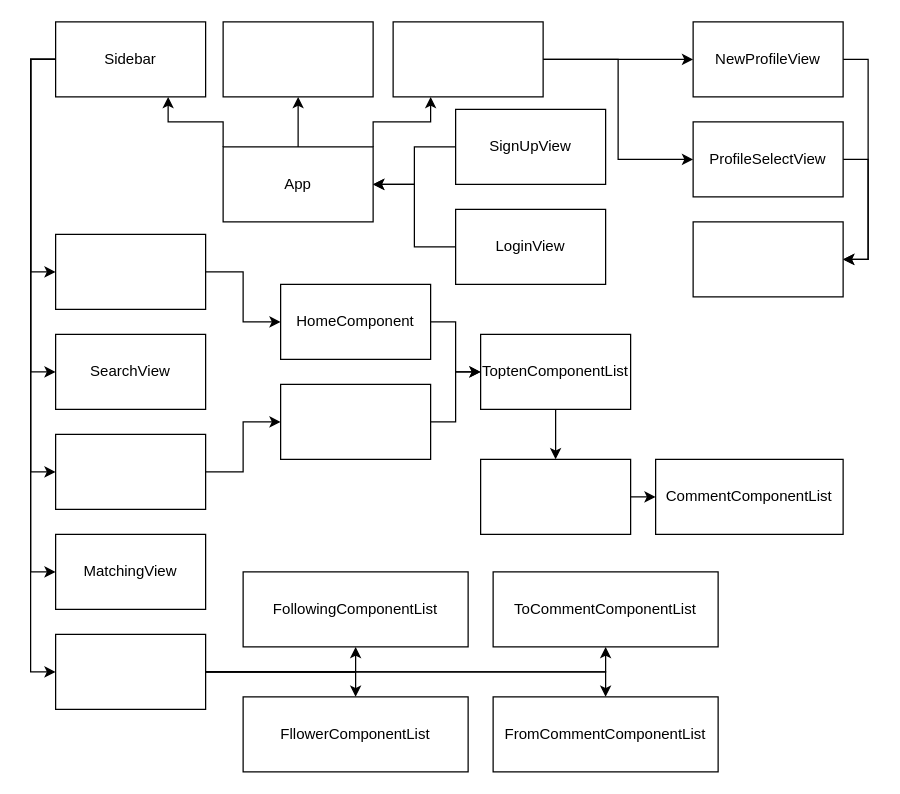
The diagram is 900 pixels wide and 794 high, and some of its shapes have lost their labels. The centre of each missing label's shape, as x and y in pixels:
CategoryView: the point at 130,471
DetailView: the point at 555,496
FooterComponent: the point at 297,59
HomeView: the point at 130,271
Navbar: the point at 467,59
ProfileComponentList: the point at 767,259
ProfileView: the point at 130,671
ToptenComponent: the point at 355,421
